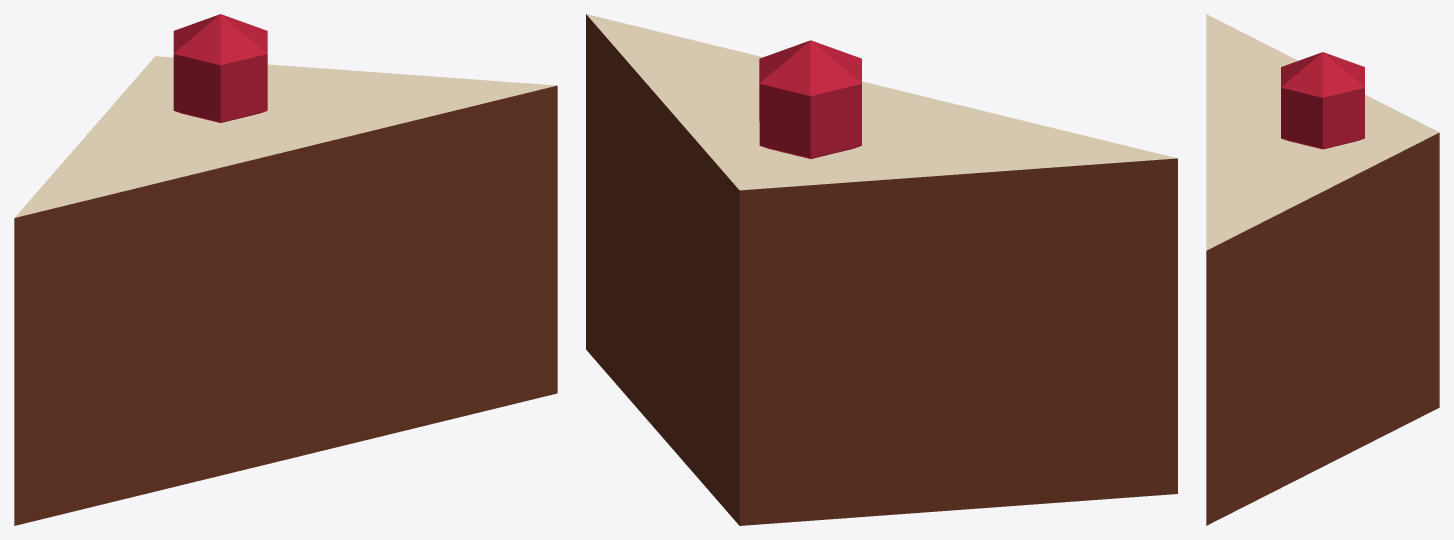
Rendered from cake_slice.obj.
3 renders of one model, left to right at view 1: azimuth 30°, elevation 25°; view 2: azimuth 150°, elevation 25°; view 3: azimuth 270°, elevation 25°, orthographic. The views are drawn at different scales.
Visible parts, largest first — view 1: cake_slice; view 2: cake_slice; view 3: cake_slice.
Part boxes in pixels (bbox=[...]): cake_slice: bbox=[14, 14, 557, 525]; cake_slice: bbox=[586, 14, 1177, 525]; cake_slice: bbox=[1206, 14, 1439, 525].
Bounding box in the file's own units: 0.12 × 0.084 × 0.05.
